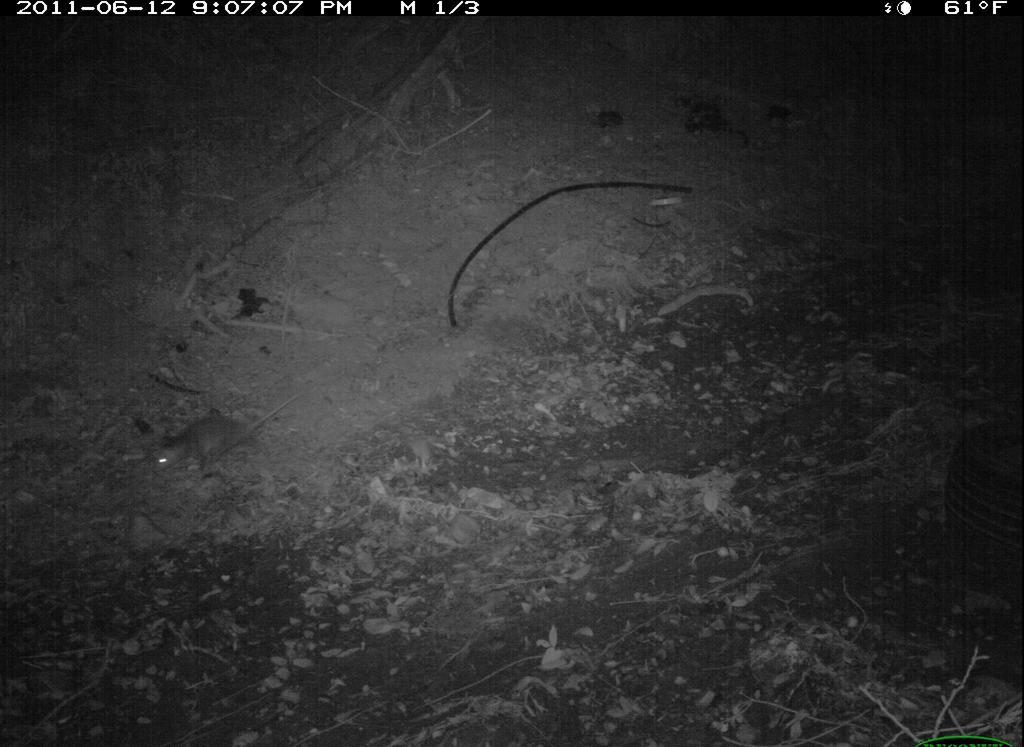opossum: (131, 394, 294, 505)
